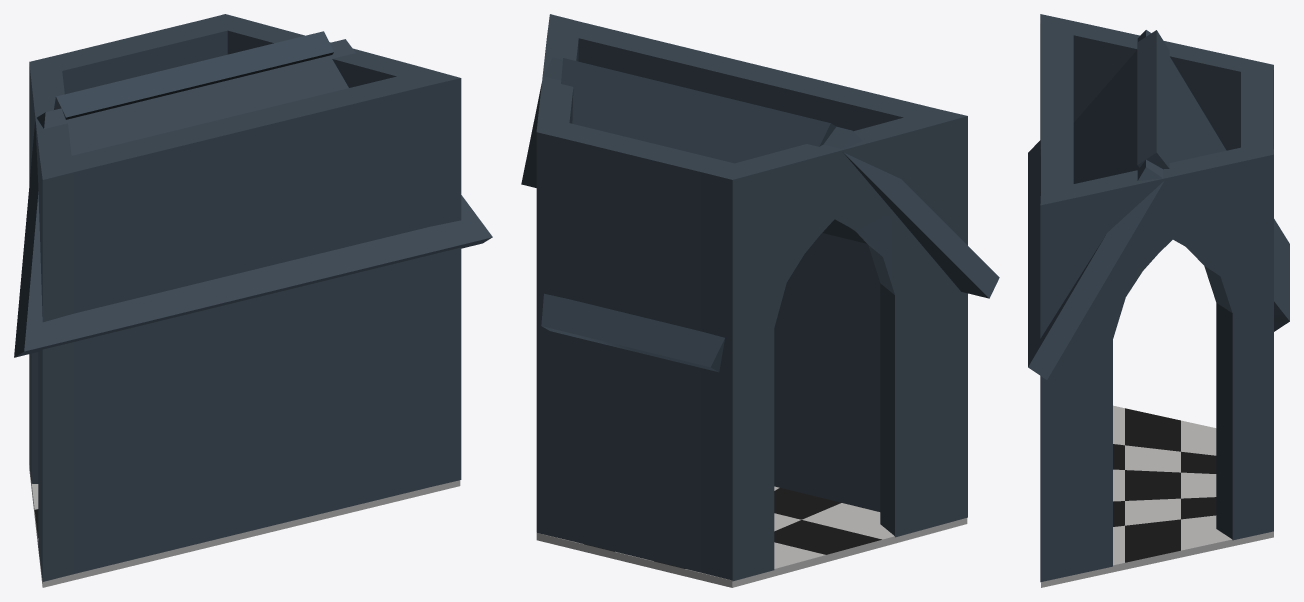
The model's file is GuardHouseTextured.fbx.
The picture shows the model from 3 angles, left to right: view 1: azimuth 30°, elevation 25°; view 2: azimuth 150°, elevation 25°; view 3: azimuth 270°, elevation 25°; orthographic projection. The views are drawn at different scales.
Parts seen in each view (by area): view 1: Architecture1; view 2: Architecture1; view 3: Architecture1.
Boxes of the visible parts, bbox=[...] form: Architecture1: bbox=[14, 14, 492, 587]; Architecture1: bbox=[521, 14, 999, 587]; Architecture1: bbox=[1028, 14, 1289, 587].
Size of the model in its own units: 27.8 by 24.27 by 14.35.
